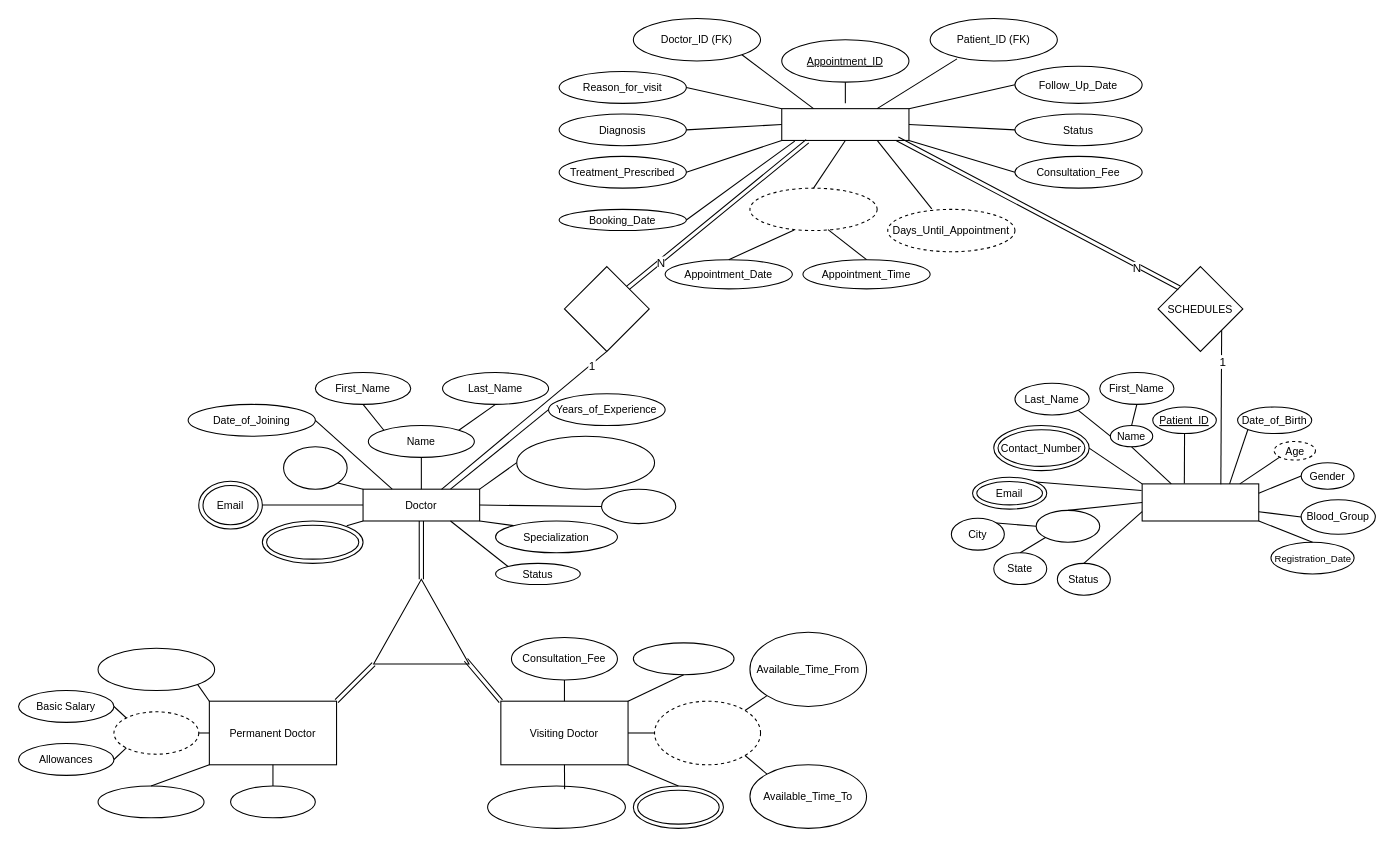
The diagram is 1394 pixels wide and 847 high, and some of its shapes have lost their labels. Here are the shapes that lost their labels. From the top down, the centre of each, then its label:
At point (845, 124): "Appointment".
At point (813, 209): "Appointment_DateTime".
At point (606, 308): "CONSULTS".
At point (314, 467): "Doctor_ID".
At point (585, 462): "Medical_License_Number".
At point (638, 506): "Doctor_Type".
At point (1200, 502): "Patient".
At point (312, 541): "Contact Number".
At point (1067, 525): "Address".
At point (421, 621): "IS-A d".
At point (156, 669): "Employee_Code".
At point (683, 658): "Hospital_Name".
At point (156, 732): "Total Salary".
At point (707, 732): "Available Duration".
At point (150, 801): "Department".
At point (272, 801): "Shift_Type".
At point (556, 806): "Commission_Percentage".
At point (677, 806): "Visit_Days".
